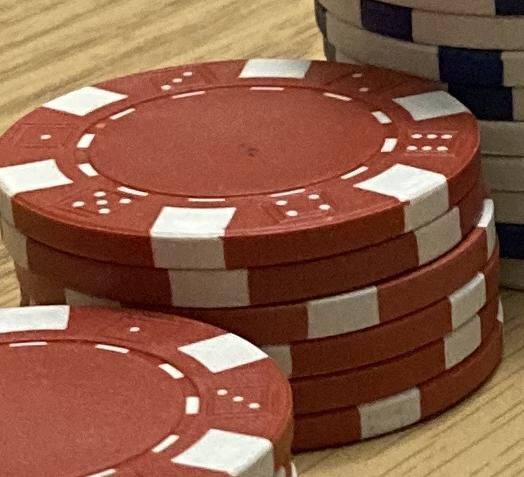Chip: (1, 1, 524, 477)
